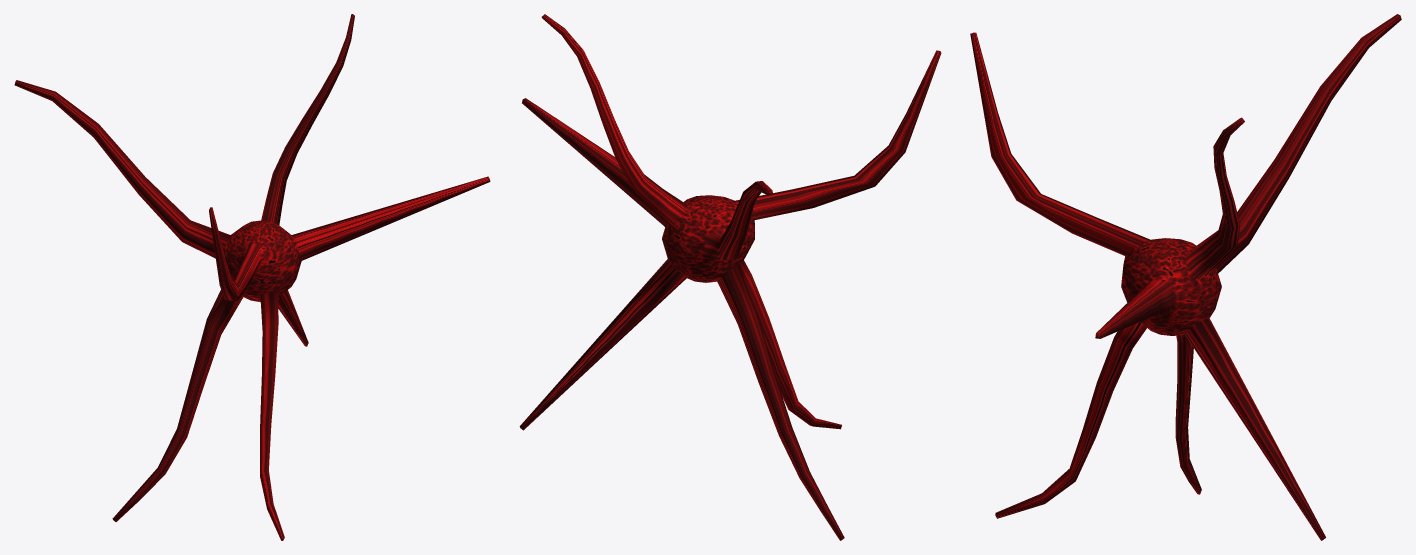
Rendered from lung_cell_2.fbx.
3 renders of one model, left to right at view 1: azimuth 30°, elevation 25°; view 2: azimuth 150°, elevation 25°; view 3: azimuth 270°, elevation 25°, orthographic. The views are drawn at different scales.
Parts seen in each view (by area): view 1: cell_lung_2; view 2: cell_lung_2; view 3: cell_lung_2.
Boxes of the visible parts, <box> form: cell_lung_2: <box>14,14,490,540</box>; cell_lung_2: <box>519,14,941,540</box>; cell_lung_2: <box>970,14,1401,540</box>.
Bounding box in the file's own units: 294 × 345 × 256.
